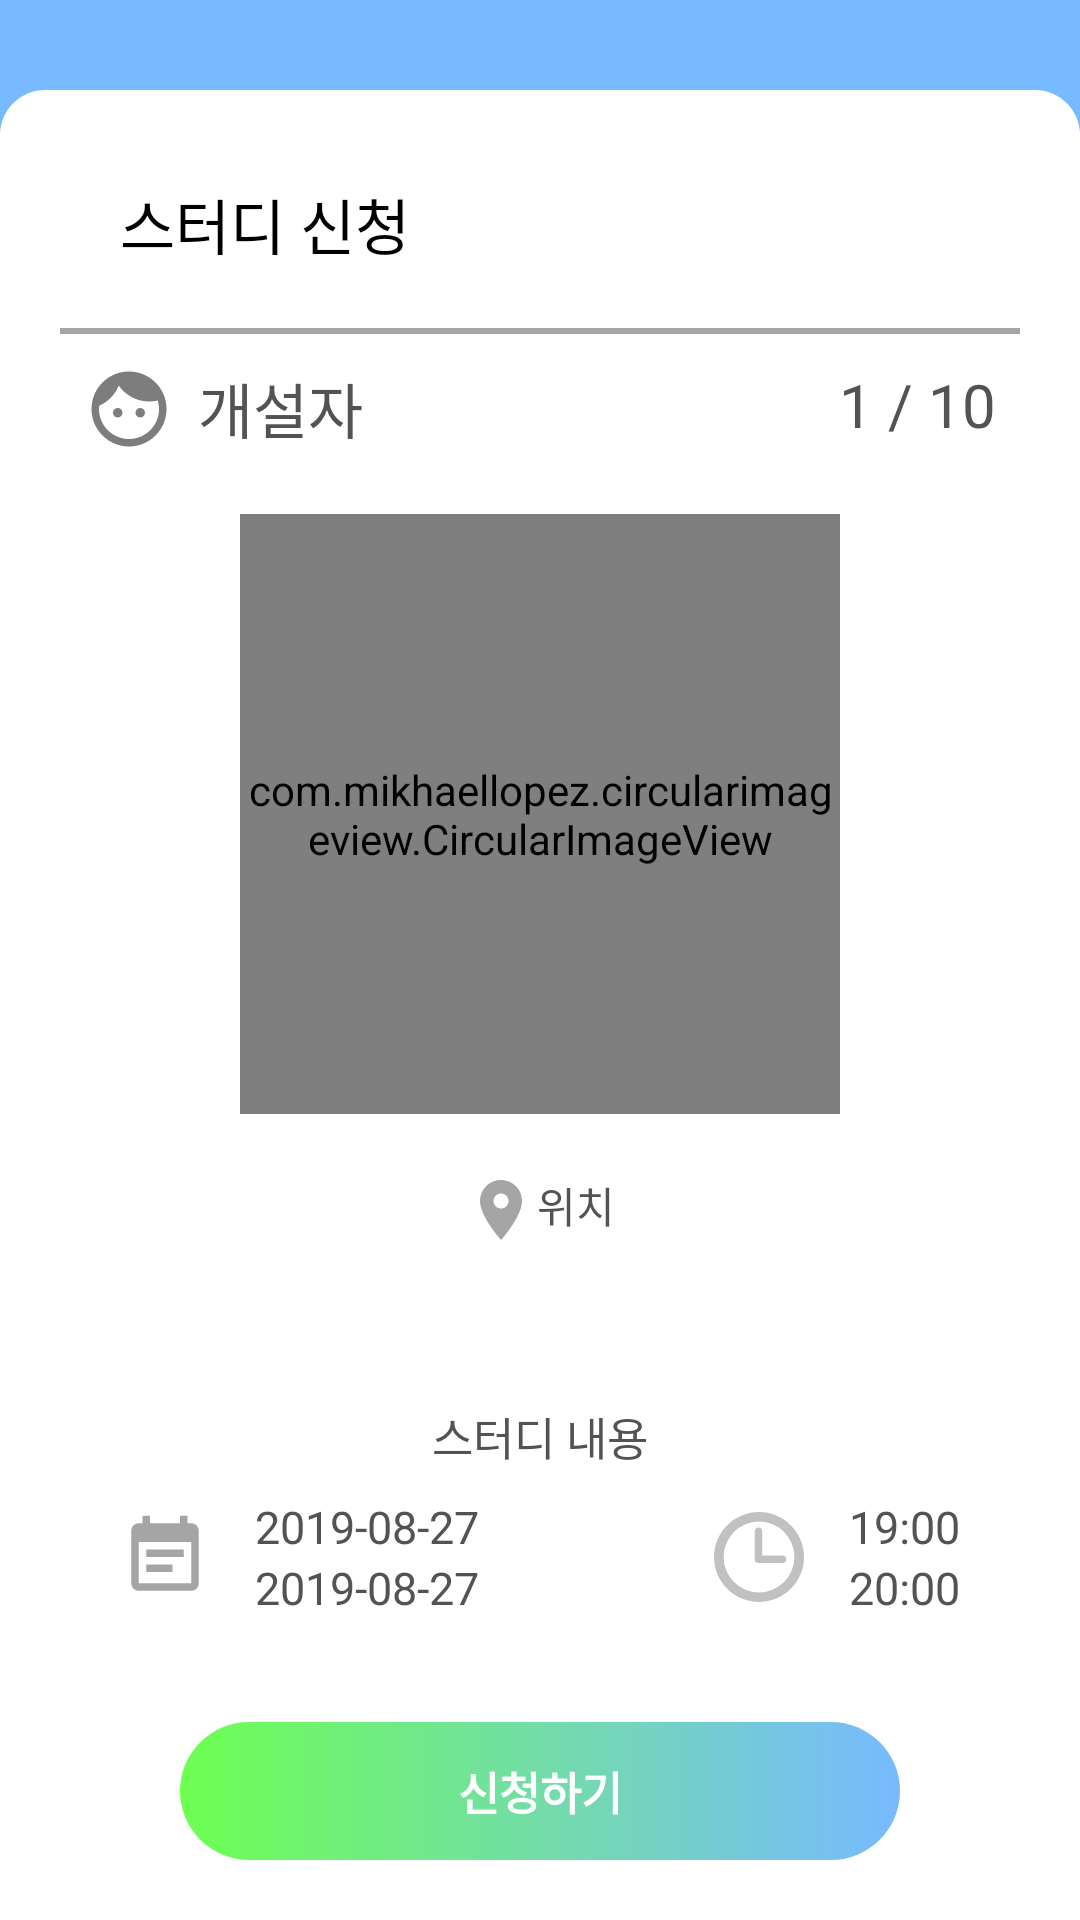

Where to tap for icons on this 1080 × 1920 app screen, as [x,y]:
clock: [759,1557]
event note: [165,1553]
face: [129,409]
